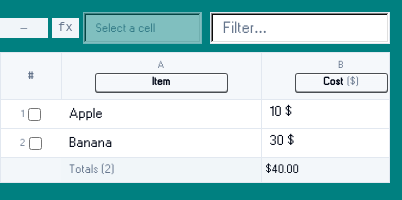
Scenario: SheetGrid › filters rows by the free-text filter
Expected: the text "Apple" is shown, [69,107,103,120]
Expected: the text "Banana" is shown, [69,136,112,149]
In the field named "Filter rows": (300, 28) [210,12,390,44], type "Apple"
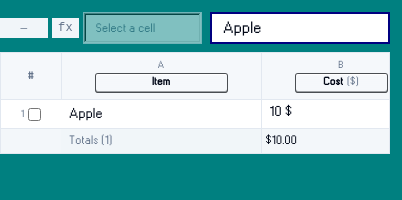
Expected: the text "Apple" is shown, [69,107,103,120]
Expected: the text "Banana" is gone
